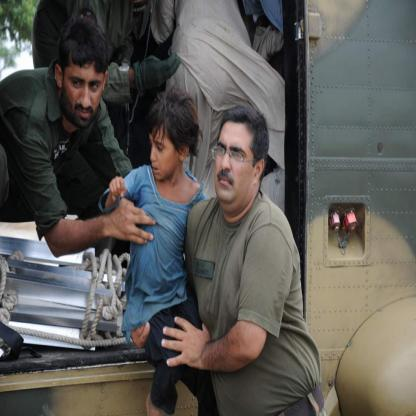face: (216, 122, 255, 204), (66, 59, 105, 124), (152, 115, 183, 180)
